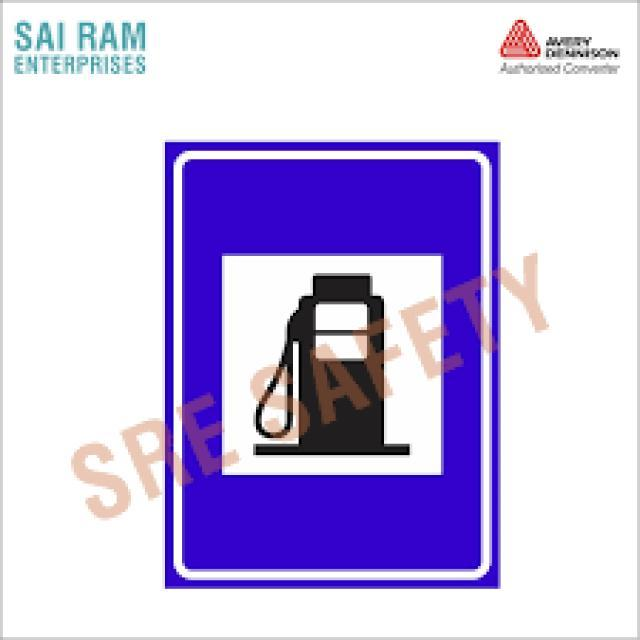petrol pump ahead: (194, 169, 472, 559)
